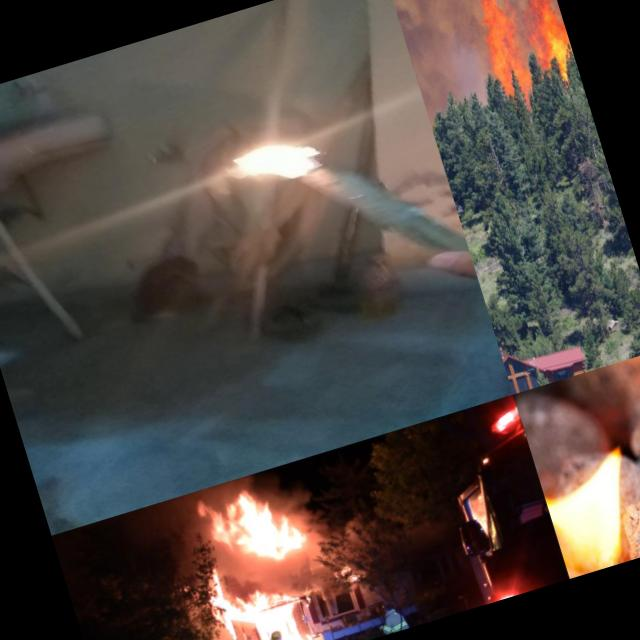fire: (524, 401, 640, 578), (207, 113, 355, 230), (191, 466, 311, 573), (459, 0, 546, 104), (217, 581, 306, 640), (514, 0, 575, 72)
smoke: (382, 0, 494, 116), (215, 543, 328, 603)
